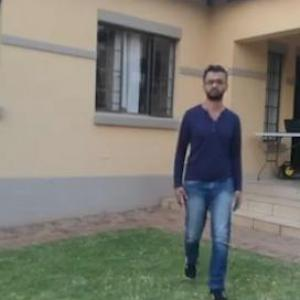follow: (169, 56, 245, 299)
